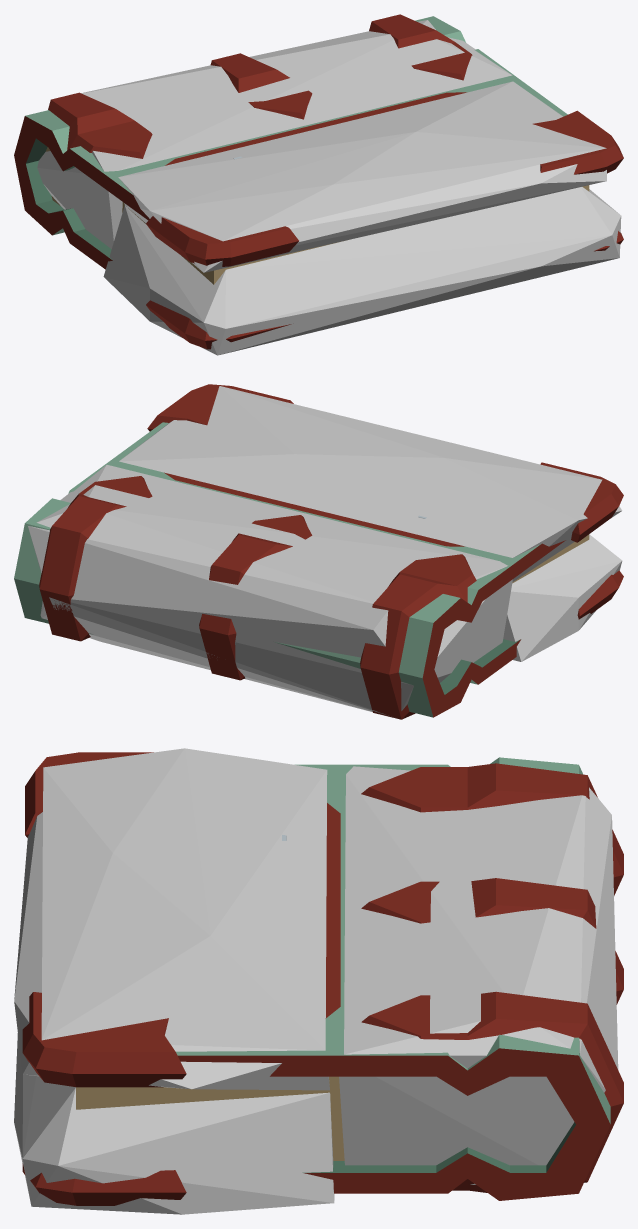
The model's file is SM_Item_Spellbook_01.fbx.
3 renders of one model, top to bottom at view 1: azimuth 30°, elevation 25°; view 2: azimuth 150°, elevation 25°; view 3: azimuth 270°, elevation 25°, orthographic. The views are drawn at different scales.
Parts seen in each view (by area): view 1: SM_Item_Spellbook_01_ConvexHulls, SM_Item_Spellbook_01; view 2: SM_Item_Spellbook_01_ConvexHulls, SM_Item_Spellbook_01; view 3: SM_Item_Spellbook_01_ConvexHulls, SM_Item_Spellbook_01.
Part boxes in pixels (x1,y1,x2,y2): SM_Item_Spellbook_01_ConvexHulls: (37, 20, 621, 355); SM_Item_Spellbook_01: (14, 14, 623, 349); SM_Item_Spellbook_01_ConvexHulls: (28, 386, 622, 716); SM_Item_Spellbook_01: (14, 384, 623, 719); SM_Item_Spellbook_01_ConvexHulls: (14, 748, 618, 1214); SM_Item_Spellbook_01: (22, 752, 623, 1205).
Size of the model in its own units: 30.79 by 25.56 by 8.29.
Materials: 2 (1 with a texture image).
